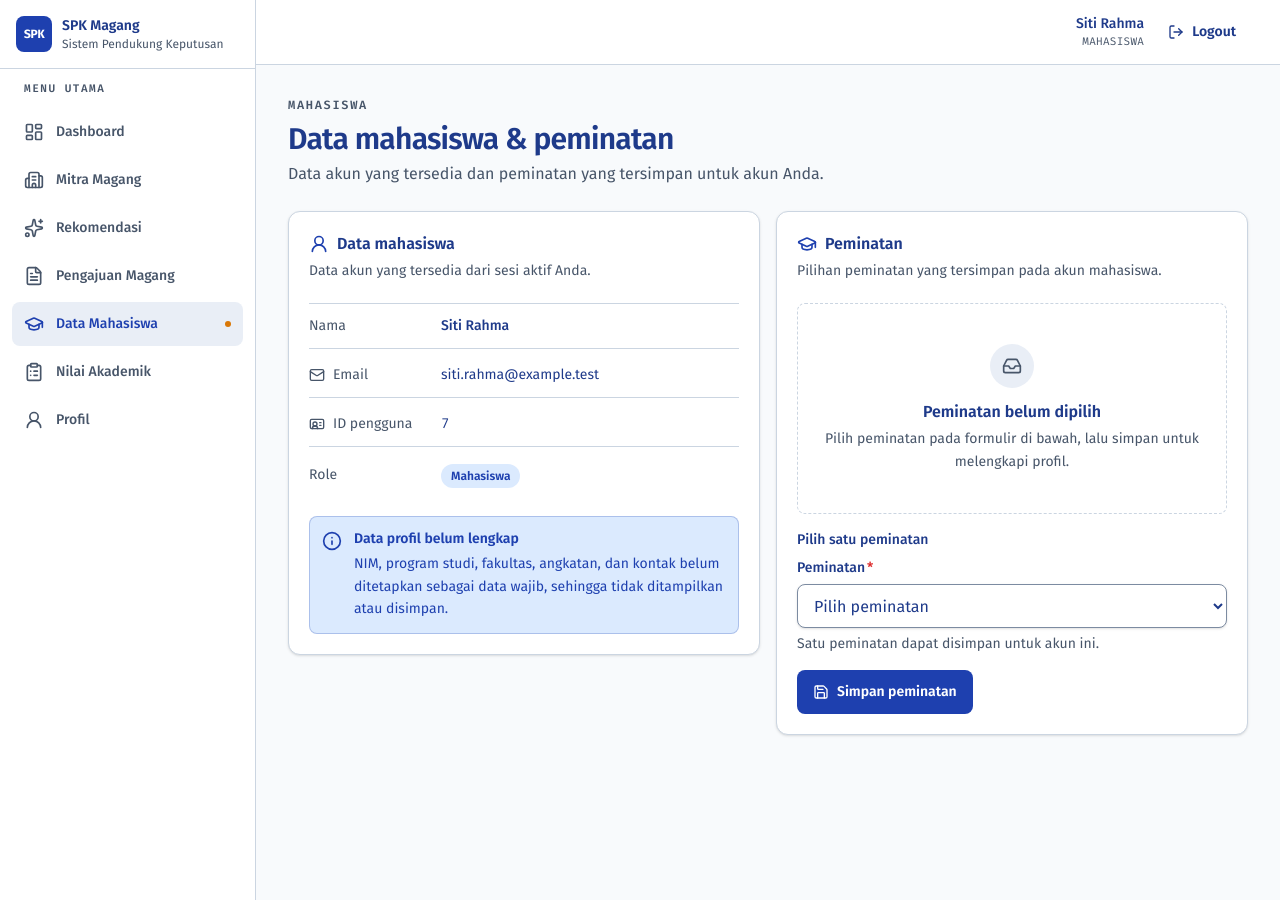
StudentDataPage › menolak submit tanpa peminatan dan tidak memanggil API
Click the button "Simpan peminatan" at (885, 692), box x1=797 y1=670 x2=973 y2=714
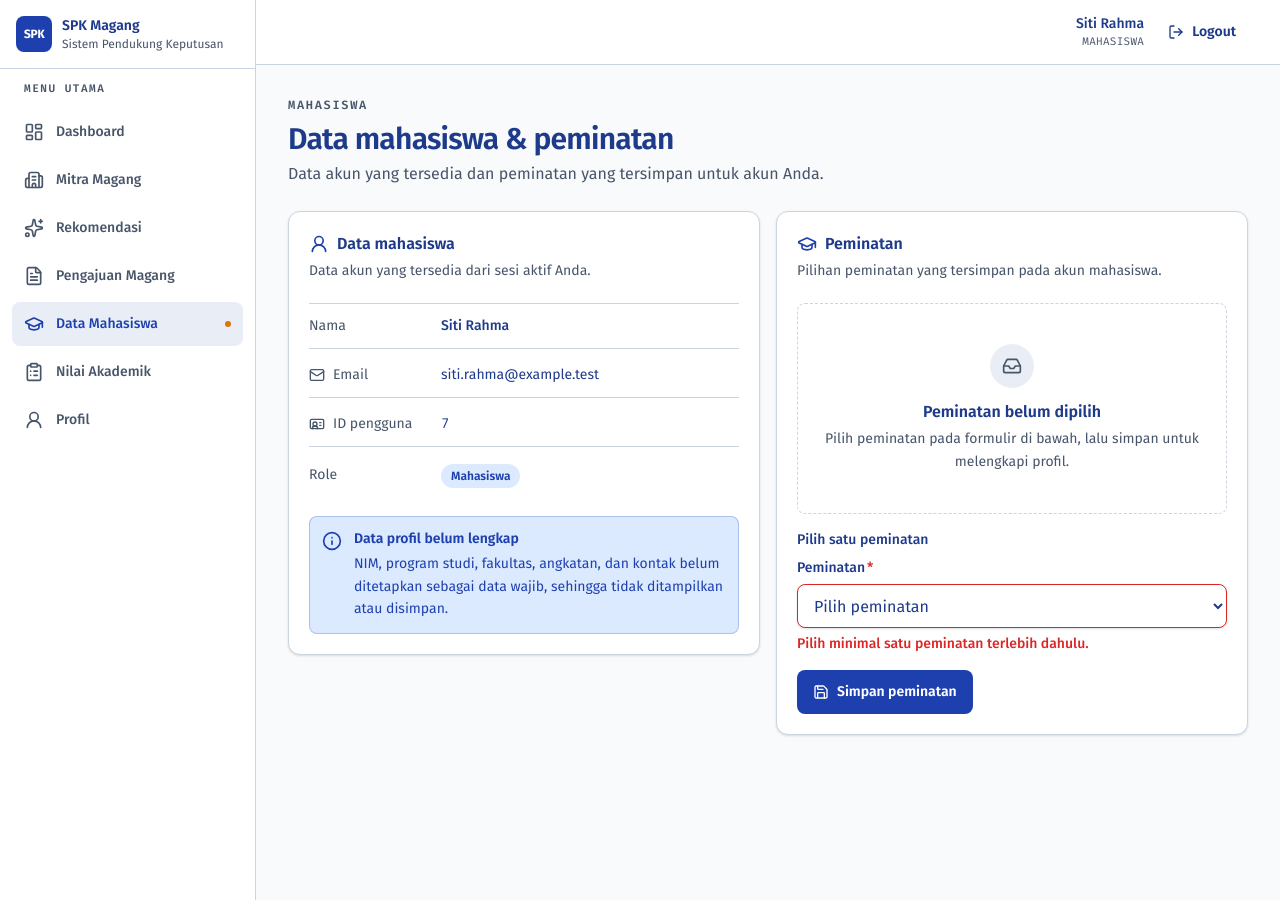
Now the text "Pilih minimal satu peminatan terlebih dahulu." is shown, box x1=797 y1=635 x2=1089 y2=652
